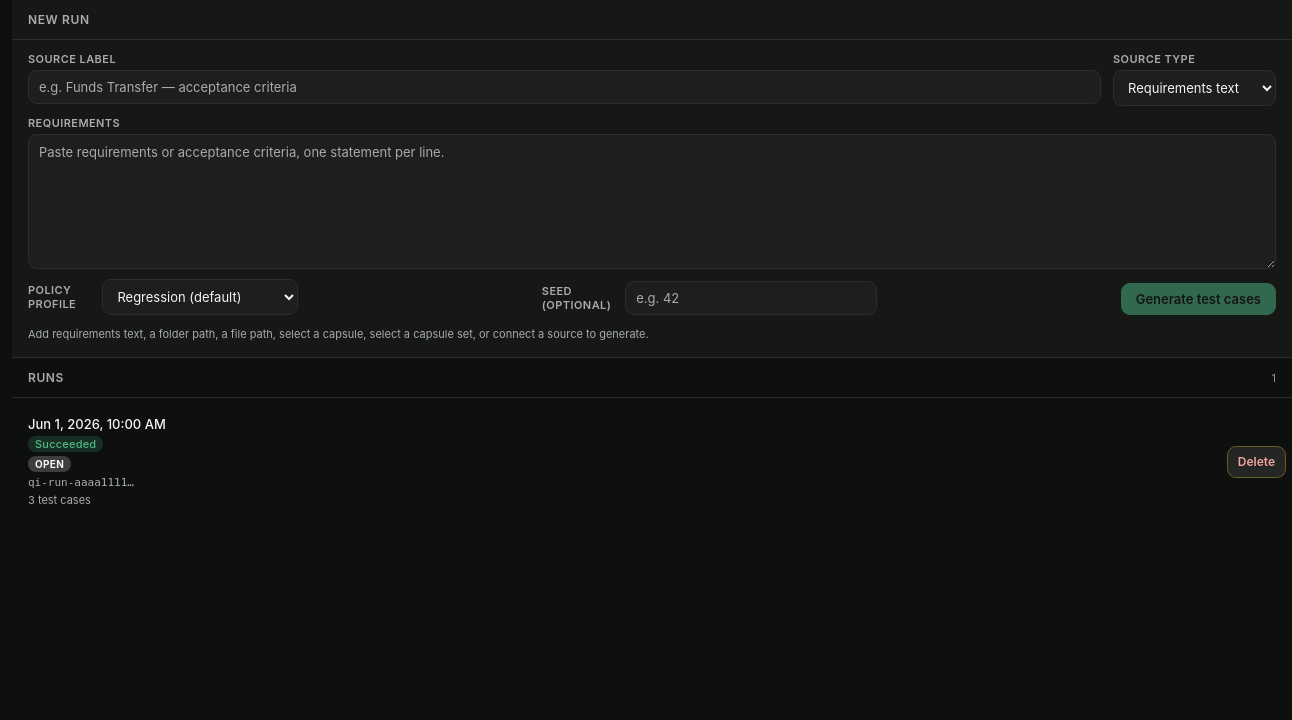
QiHubPanel › surfaces a retryable error (without crashing) when the delete fails
Click the button with aria-label "delete run". click: (1256, 462)
box: [1227,446,1286,478]
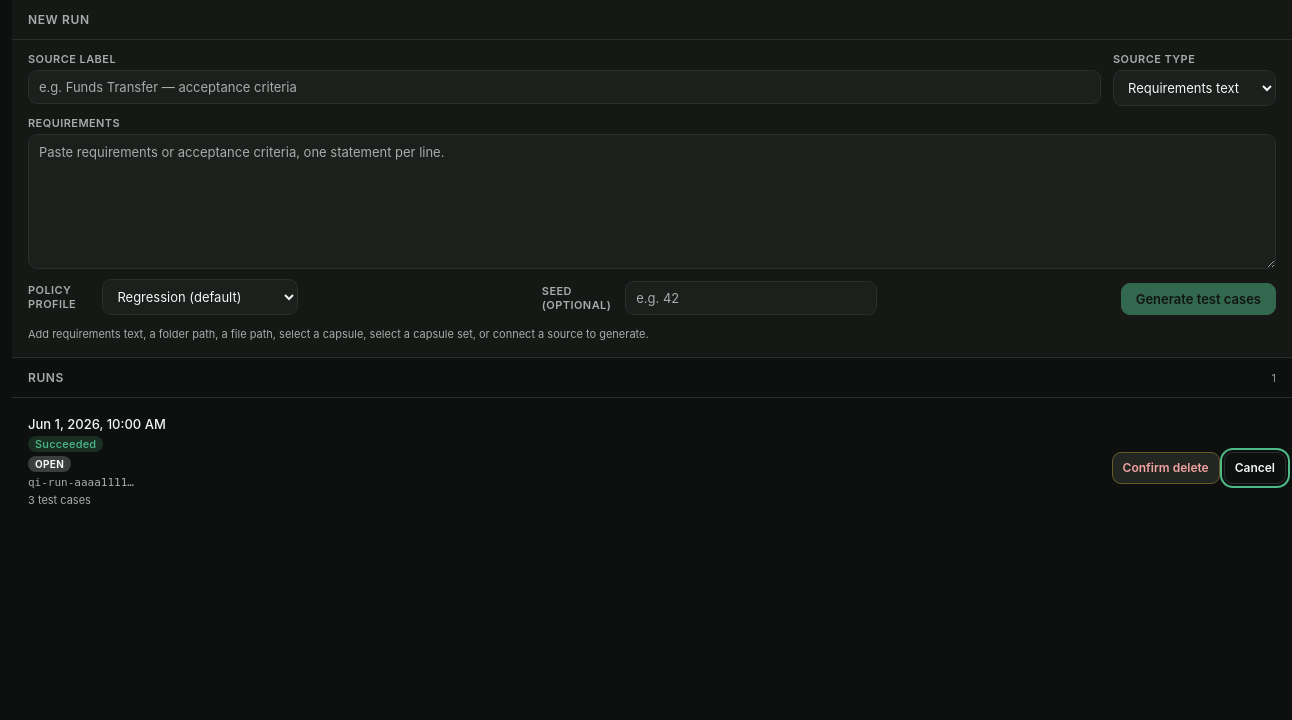
Click the button "Confirm delete". click: (1166, 468)
box: [1112,452,1220,484]
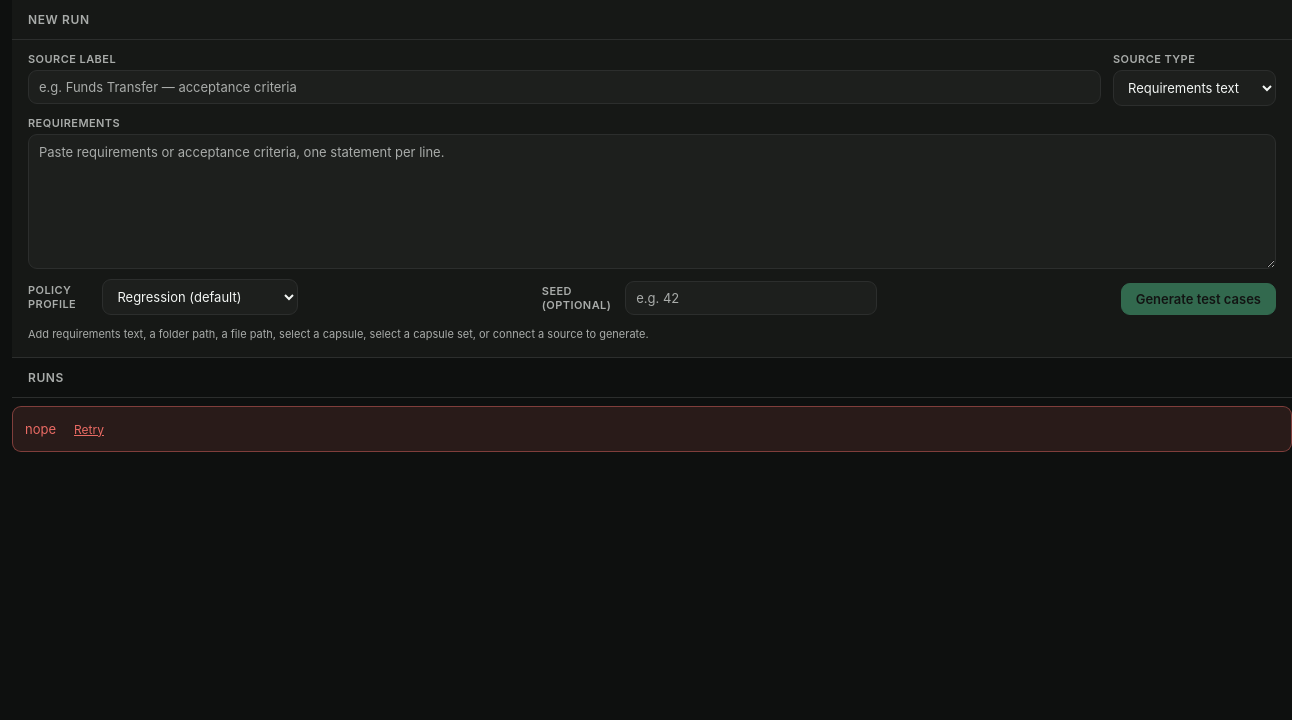
Now the message "nope Retry" is shown, box [12,406,1291,452]
Now the button "Retry" is shown, box [68,417,110,441]
